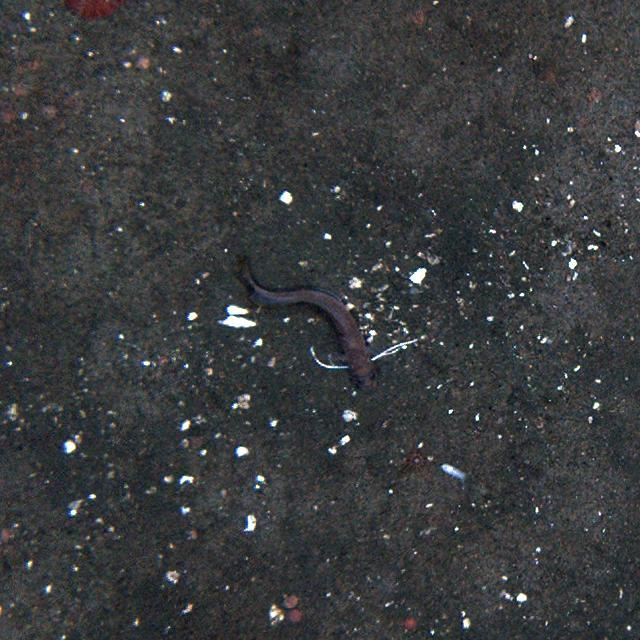roundfish: (236, 253, 420, 394)
